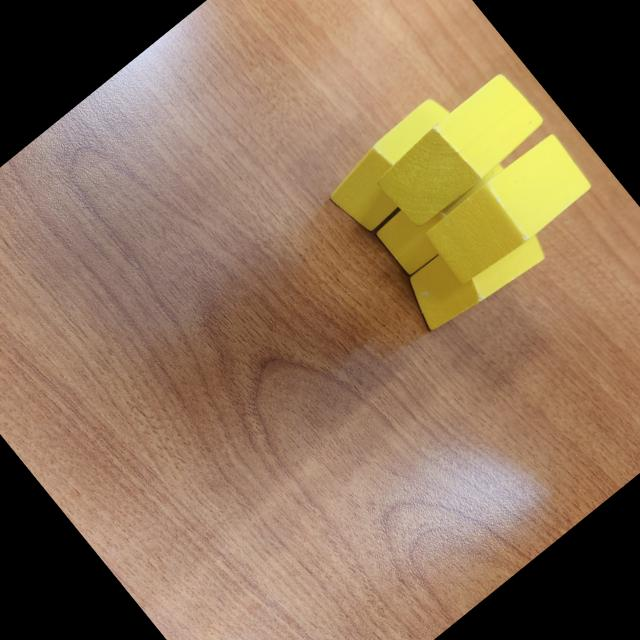yellow: (372, 68, 550, 232), (419, 128, 597, 292), (317, 92, 478, 242), (395, 196, 553, 344), (371, 142, 522, 280)
